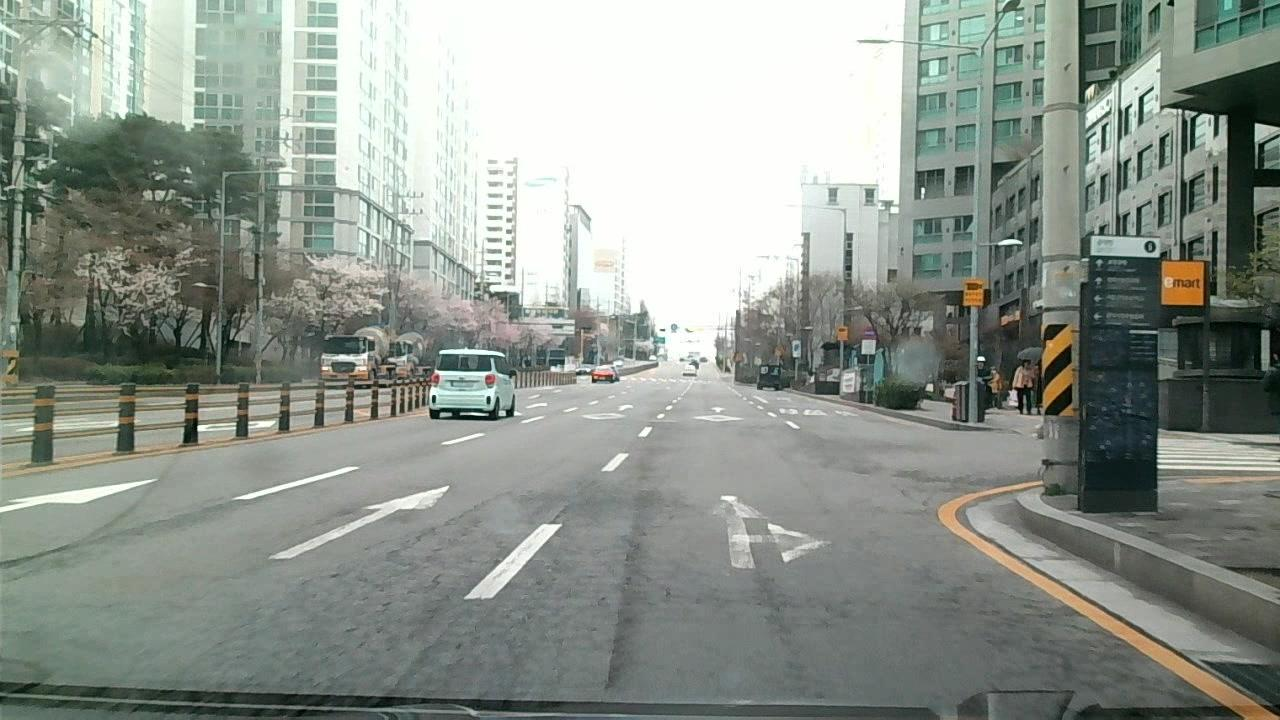banner: (236, 578, 589, 699), (5, 499, 237, 567), (388, 487, 514, 577), (601, 496, 659, 691), (758, 567, 807, 682)
